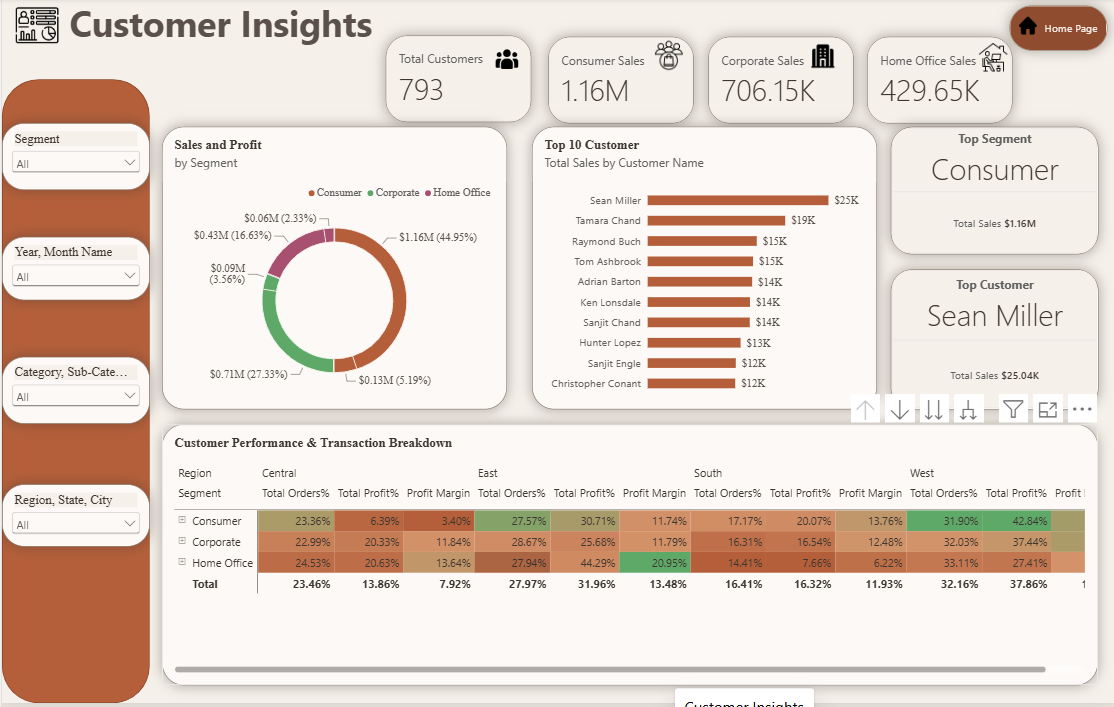

This screenshot's page, from the dashboard's own definition file:
{"tool":"powerbi","page":{"name":"Customer Insights","canvas":[1500,950],"ordinal":3},"visuals":[{"type":"shape","box":[0,109.5,199,840.5],"z":0},{"type":"actionButton","box":[1775.3,43.4,99.5,61.3],"z":1000},{"type":"textbox","box":[91.7,0,426.1,74],"z":2000},{"type":"image","box":[17.7,0,57.9,74],"z":3000},{"type":"cardVisual","fields":{"Data":["Orders.Total Customers"]},"box":[517.3,50.9,196.2,117.2],"z":4000},{"type":"cardVisual","fields":{"Data":["Orders.Consumer Sales"]},"box":[736.5,51.5,196.2,117.2],"z":5000},{"type":"cardVisual","fields":{"Data":["Orders.Customer Sales"]},"box":[1165.8,51.5,196.2,117.2],"z":6000},{"type":"cardVisual","fields":{"Data":["Orders.Corporate Sales"]},"box":[952,51.5,196.2,117.2],"z":7000},{"type":"image","box":[646.4,67.5,67.5,30.6],"z":8000},{"type":"image","box":[863.5,57.9,69.1,40.2],"z":9000},{"type":"image","box":[1064.5,61.1,83.6,35.4],"z":10000},{"type":"image","box":[1284.8,61.1,101.3,38.6],"z":11000},{"type":"donutChart","title":"Sales and Profit","fields":{"Category":["Orders.Segment"],"Y":["Orders.Total Sales","Orders.Total Profit"]},"box":[215.5,173.7,464.7,381.1],"z":12000},{"type":"barChart","title":"Top 10 Customer","fields":{"Category":["Orders.Customer Name"],"Y":["Orders.Total Sales"]},"box":[714,173.7,464.7,381.1],"z":13000},{"type":"cardVisual","fields":{"Data":["Min(Orders.Segment)"]},"box":[1196.4,173.7,279.8,172.1],"z":14000},{"type":"cardVisual","fields":{"Data":["Min(Orders.Customer Name)"]},"box":[1196.4,365,279.8,189.8],"z":15000},{"type":"pivotTable","title":"Customer Performance & Transaction Breakdown","fields":{"Columns":["Orders.Region"],"Rows":["Orders.Segment","Orders.Customer Name"],"Values":["Orders.Total Order","Orders.Total Profit","Orders.Profit Margin"]},"box":[215.5,574.1,1260.7,352.2],"z":16000},{"type":"actionButton","box":[1357.2,9.6,131.9,61.1],"z":17000},{"type":"image","box":[1357.2,25.7,49.9,24.1],"z":18000},{"type":"slicer","fields":{"Values":["Orders.Segment"]},"box":[0,168.8,199.4,90.1],"z":19000},{"type":"slicer","fields":{"Values":["Orders.Category","Orders.Sub-Category"]},"box":[0,484,199.4,90.1],"z":20000},{"type":"slicer","fields":{"Values":["Calendar.Year","Calendar.Month Name"]},"box":[0,321.6,199.4,85.2],"z":21000},{"type":"slicer","fields":{"Values":["Orders.Region","Orders.State","Orders.City"]},"box":[0,654.5,199.4,83.6],"z":22000}]}

Visuals, with their boxes in screenshot pixels (x1, y1, x2, y2), scaled from the page's 1500x950 canvas onto the 1114x707 screenshot:
shape: (x1=0, y1=81, x2=148, y2=706)
textbox: (x1=68, y1=0, x2=385, y2=55)
image: (x1=13, y1=0, x2=56, y2=55)
cardVisual - Orders.Total Customers: (x1=384, y1=38, x2=530, y2=125)
cardVisual - Orders.Consumer Sales: (x1=547, y1=38, x2=693, y2=126)
cardVisual - Orders.Customer Sales: (x1=866, y1=38, x2=1012, y2=126)
cardVisual - Orders.Corporate Sales: (x1=707, y1=38, x2=853, y2=126)
image: (x1=480, y1=50, x2=530, y2=73)
image: (x1=641, y1=43, x2=693, y2=73)
image: (x1=791, y1=45, x2=853, y2=72)
image: (x1=954, y1=45, x2=1029, y2=74)
"Sales and Profit" donutChart: (x1=160, y1=129, x2=505, y2=413)
"Top 10 Customer" barChart: (x1=530, y1=129, x2=875, y2=413)
cardVisual - Min(Orders.Segment): (x1=889, y1=129, x2=1096, y2=257)
cardVisual - Min(Orders.Customer Name): (x1=889, y1=272, x2=1096, y2=413)
"Customer Performance & Transaction Breakdown" pivotTable: (x1=160, y1=427, x2=1096, y2=689)
actionButton: (x1=1008, y1=7, x2=1106, y2=53)
image: (x1=1008, y1=19, x2=1045, y2=37)
slicer - Orders.Segment: (x1=0, y1=126, x2=148, y2=193)
slicer - Orders.Category x Orders.Sub-Category: (x1=0, y1=360, x2=148, y2=427)
slicer - Calendar.Year x Calendar.Month Name: (x1=0, y1=239, x2=148, y2=303)
slicer - Orders.Region x Orders.State: (x1=0, y1=487, x2=148, y2=549)
